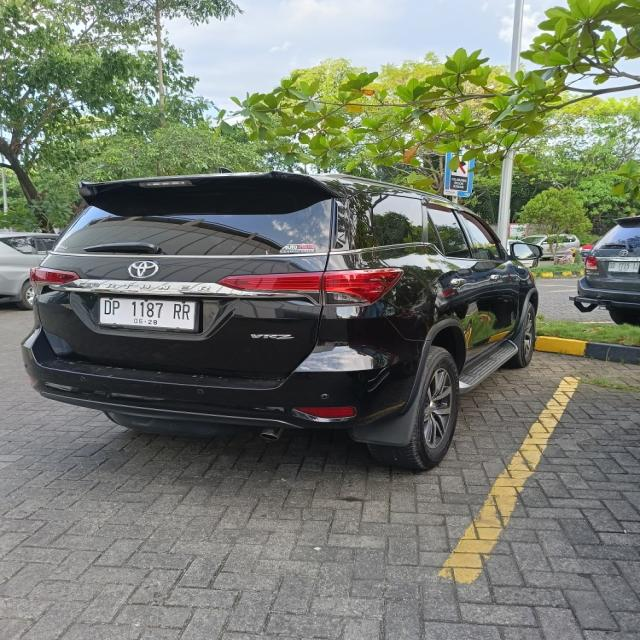plates: (94, 298, 205, 328)
